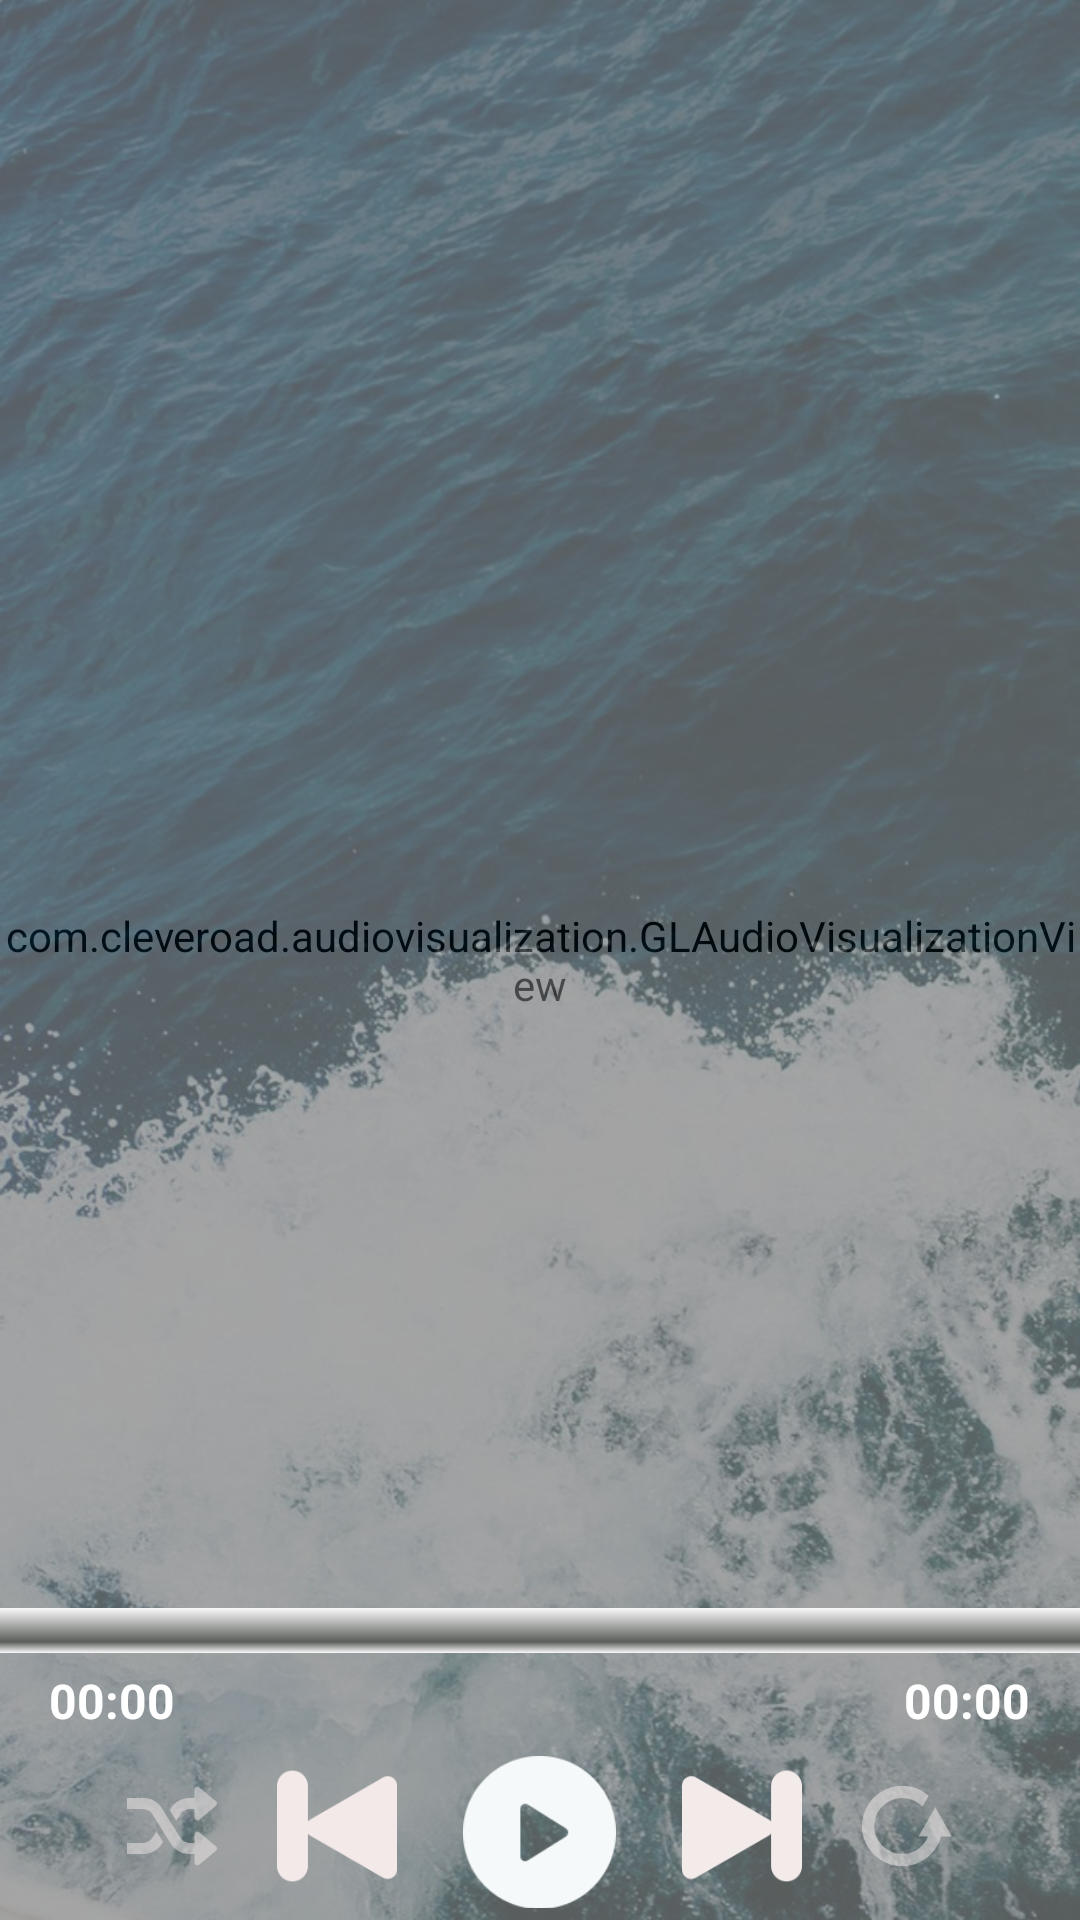

Screen size 1080 x 1920. Icon name, then its center in pixels as (x,y):
back: (337,1826)
next: (742,1826)
play: (539,1832)
replay: (907,1828)
shuffle: (172,1823)
